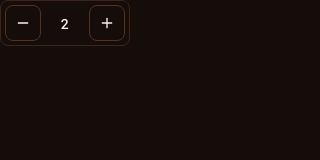
it: QuantityStepper › digitar é rascunho: vale ao sair do campo, limitado a [min, max]
This screenshot has width=320, height=160.
Replace the text in the field named "Quantidade" with "99": (65, 23) [47,5,83,41]
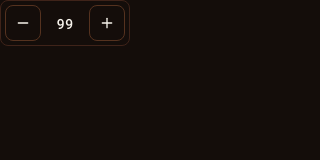
Leave the field named "Quantidade", box [47,5,83,41]
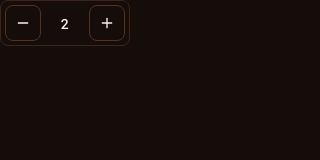
Expected: the field named "Quantidade" holds "2", [47,5,83,41]
